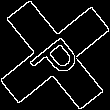P_NE: (24, 25, 86, 85)
